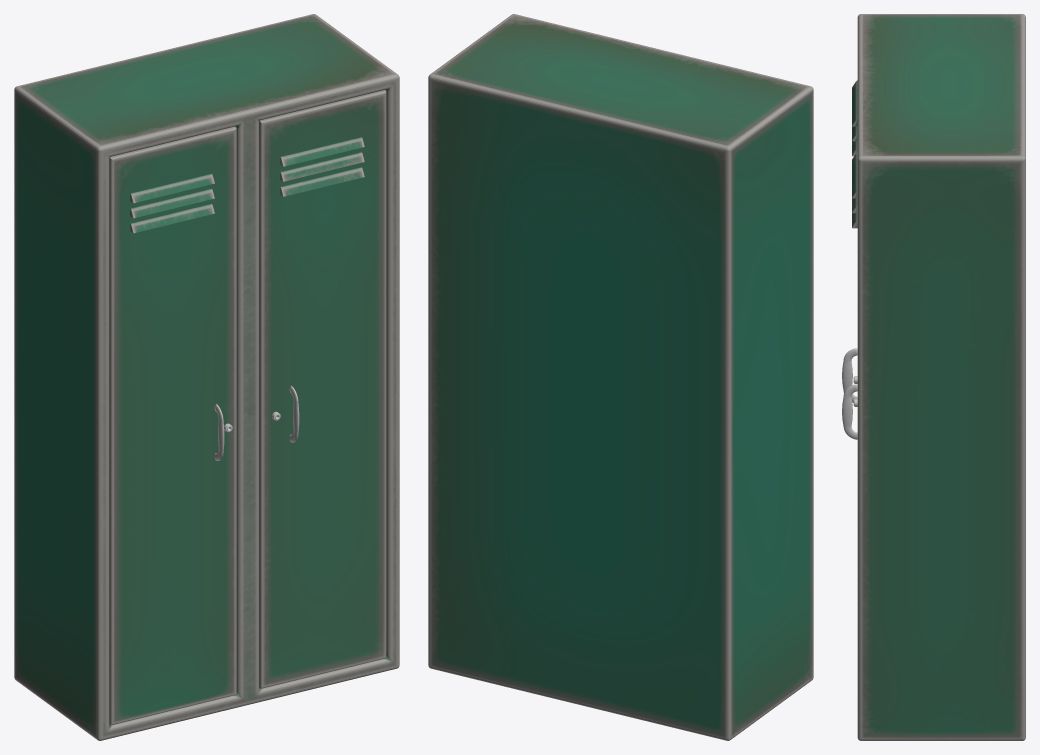
File: Cabinet.fbx
3 renders of one model, left to right at view 1: azimuth 30°, elevation 25°; view 2: azimuth 150°, elevation 25°; view 3: azimuth 270°, elevation 25°, orthographic.
Visible parts, largest first — view 1: Plane.022; view 2: Plane.022; view 3: Plane.022.
Part boxes in pixels (x1=…): Plane.022: x1=14, y1=14, x2=399, y2=740; Plane.022: x1=428, y1=14, x2=813, y2=740; Plane.022: x1=842, y1=14, x2=1025, y2=740.
Size of the model in its own units: 2064 by 3877 by 1105.
